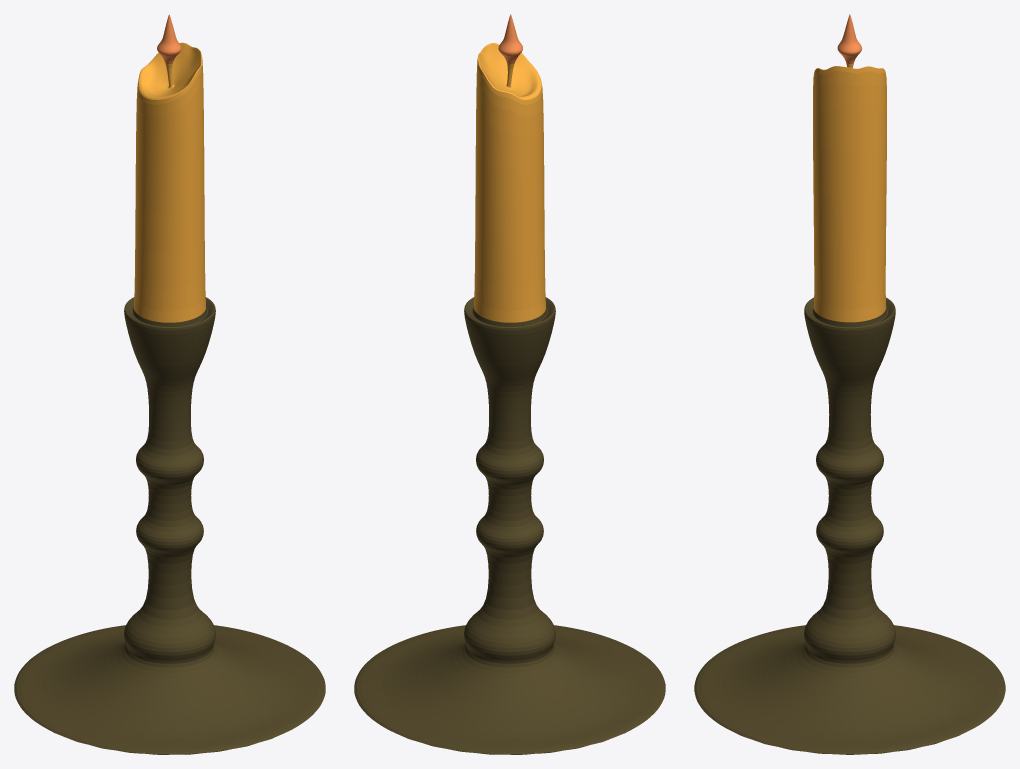
Rendered from candle 1.fbx.
3 renders of one model, left to right at view 1: azimuth 30°, elevation 25°; view 2: azimuth 150°, elevation 25°; view 3: azimuth 270°, elevation 25°, orthographic.
Parts seen in each view (by area): view 1: candle; view 2: candle; view 3: candle.
Part boxes in pixels (x1,y1,x2,y2): candle: [14, 14, 325, 754]; candle: [354, 14, 665, 754]; candle: [694, 14, 1005, 754].
Size of the model in its own units: 29.39 by 70.8 by 29.39.
